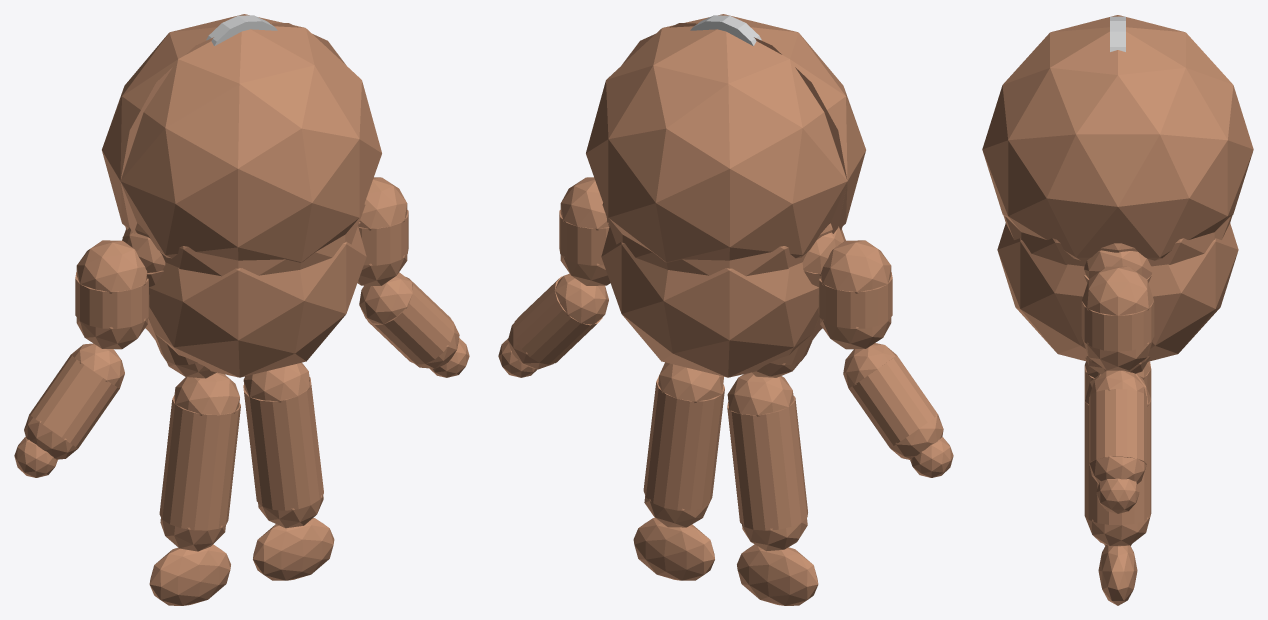
The model's file is bf51c092-e0ce-4b57-adfd-f22fd44a1658.glb.
The picture shows the model from 3 angles, left to right: view 1: azimuth 30°, elevation 25°; view 2: azimuth 150°, elevation 25°; view 3: azimuth 270°, elevation 25°; orthographic projection. The views are drawn at different scales.
Parts seen in each view (by area): view 1: world; view 2: world; view 3: world.
Boxes of the visible parts, <box> form: world: <box>14,14,469,605</box>; world: <box>498,14,953,605</box>; world: <box>982,15,1253,605</box>.
Size of the model in its own units: 1.13 by 1.38 by 0.6121.
